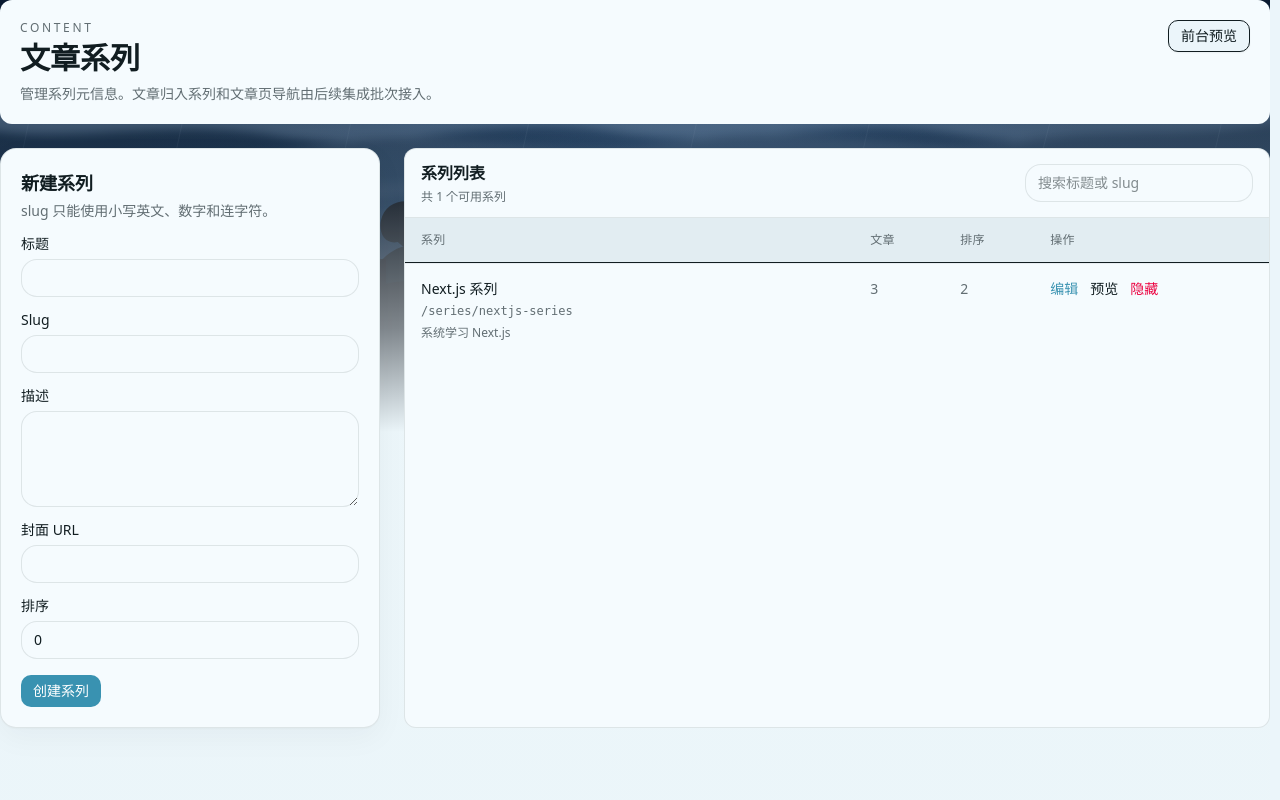
Scenario: admin series page › shows Chinese field errors and does not submit invalid series form
Expected: the text "Next.js 系列" is shown, x1=421 y1=279 x2=497 y2=298
Click the button "创建系列" at [61, 691], box x1=21 y1=675 x2=101 y2=707
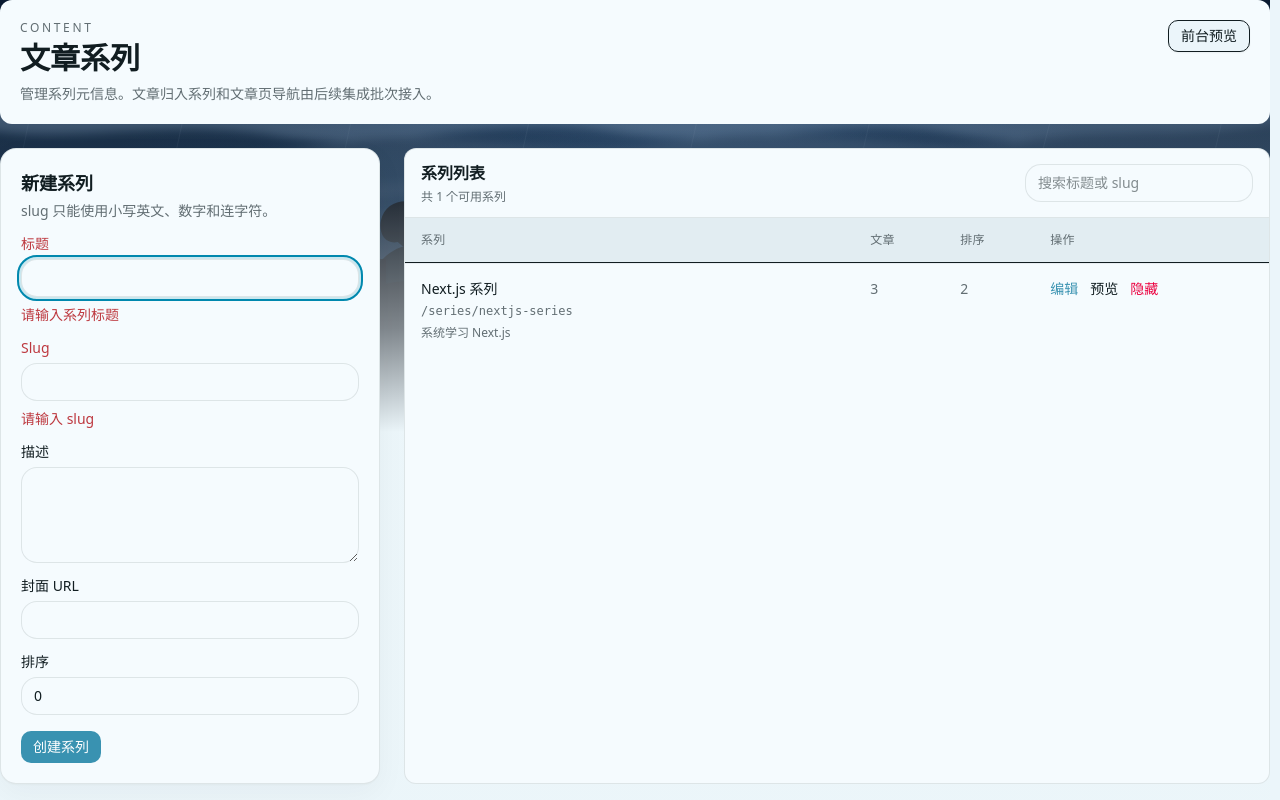
Result: the text "请输入系列标题" is shown at x1=21 y1=305 x2=119 y2=324
Result: the text "请输入 slug" is shown at x1=21 y1=409 x2=94 y2=428
